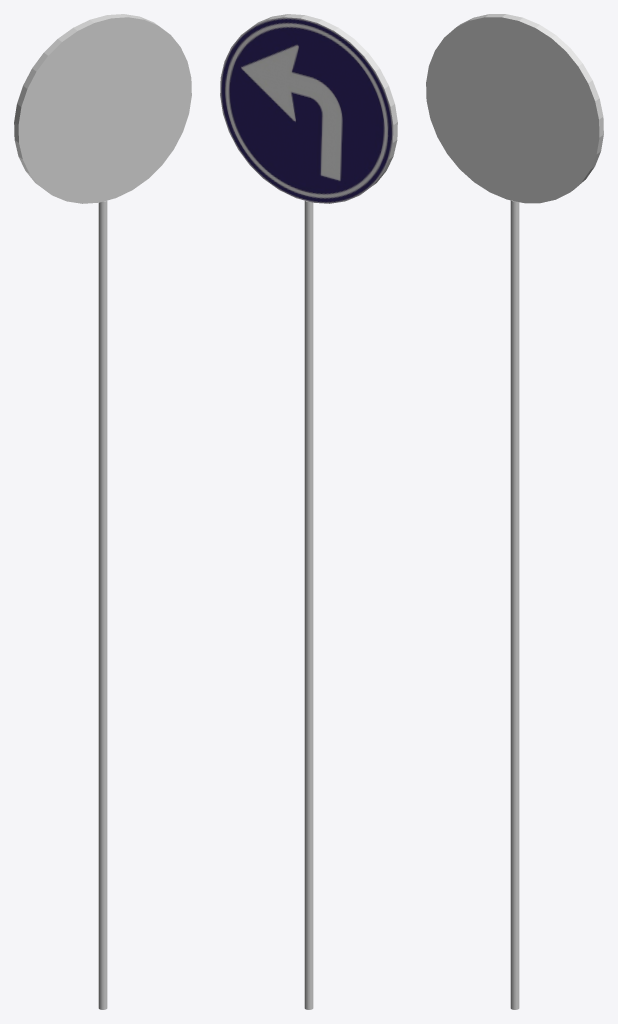
File: mecsag.dae
The picture shows the model from 3 angles, left to right: view 1: azimuth 30°, elevation 25°; view 2: azimuth 150°, elevation 25°; view 3: azimuth 330°, elevation 25°; orthographic projection.
Visible parts, largest first — view 1: Cylinder_001, Cylinder; view 2: Cylinder_001, Cylinder; view 3: Cylinder_001, Cylinder.
Boxes of the visible parts, bbox=[...] form: Cylinder_001: bbox=[14, 14, 191, 203]; Cylinder: bbox=[98, 200, 107, 1009]; Cylinder_001: bbox=[220, 14, 397, 203]; Cylinder: bbox=[304, 200, 313, 1009]; Cylinder_001: bbox=[426, 14, 603, 203]; Cylinder: bbox=[510, 200, 519, 1009].
Size of the model in its own units: 0.4489 by 0.02 by 2.45.
1 material, 1 textured.
